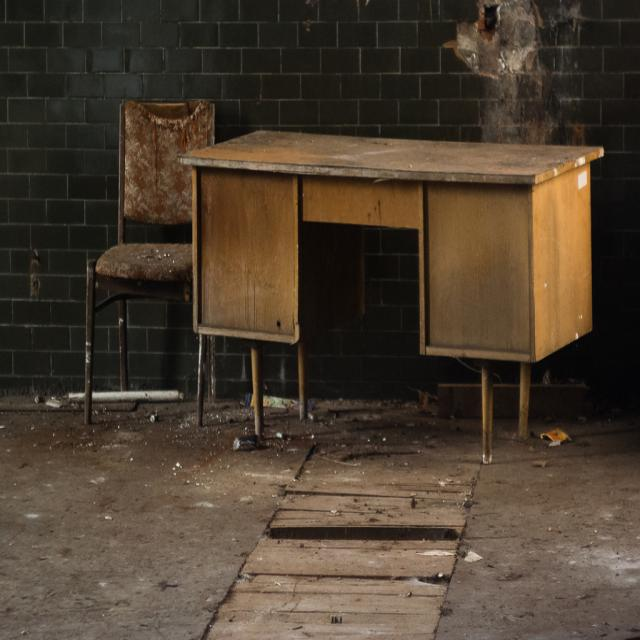chair: (84, 99, 214, 429)
desk: (177, 165, 602, 438)
